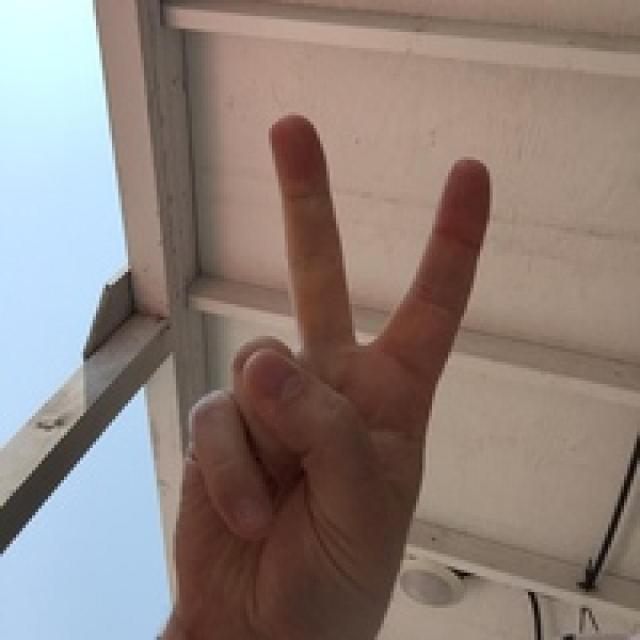V: (142, 65, 511, 640)
